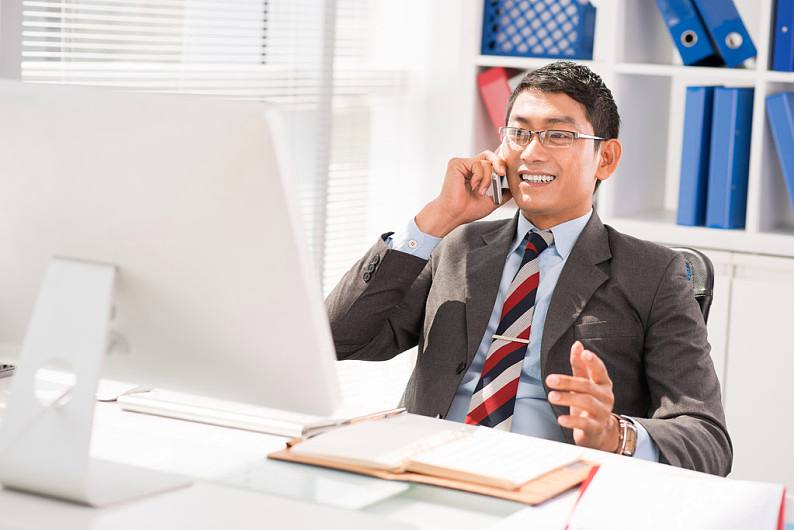calling: (438, 140, 513, 223)
